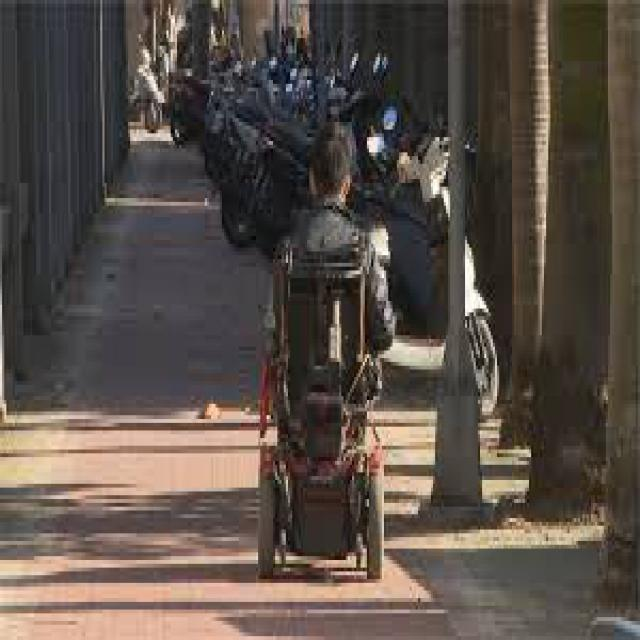wheelchairs: (233, 236, 416, 575)
